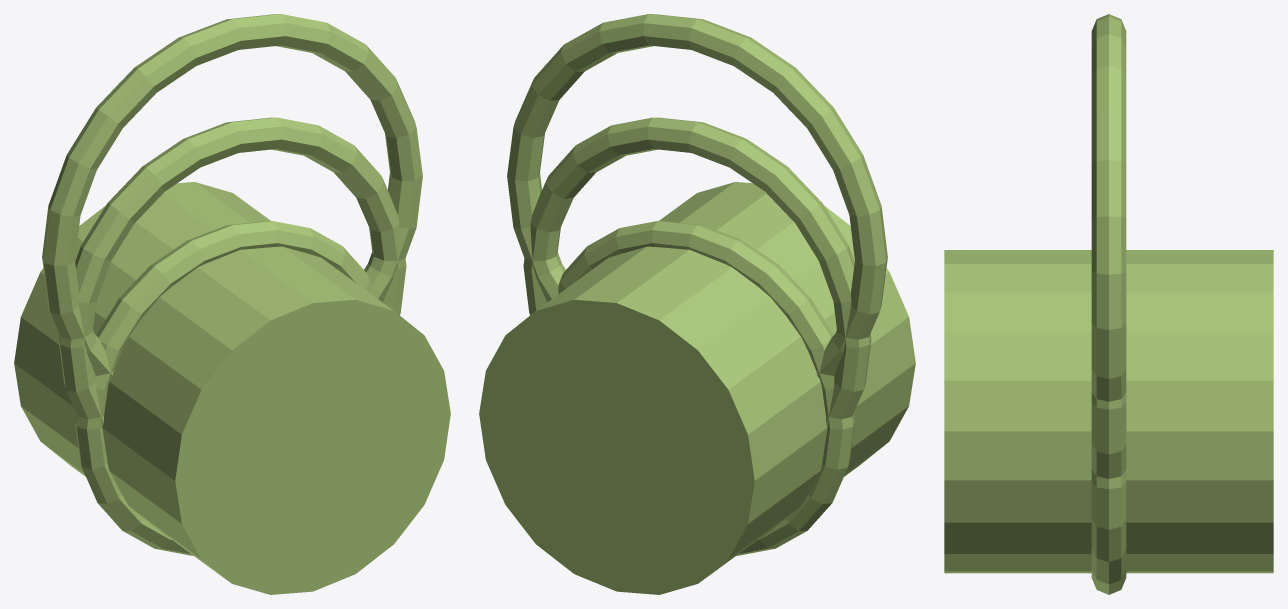
The model's file is music_076.glb.
The picture shows the model from 3 angles, left to right: view 1: azimuth 30°, elevation 25°; view 2: azimuth 150°, elevation 25°; view 3: azimuth 270°, elevation 25°; orthographic projection. The views are drawn at different scales.
Parts seen in each view (by area): view 1: world; view 2: world; view 3: world.
Boxes of the visible parts, bbox=[...] form: world: bbox=[14, 14, 450, 594]; world: bbox=[479, 14, 915, 594]; world: bbox=[944, 14, 1273, 594].
Bounding box in the file's own units: 1.15 × 1.55 × 0.85.
